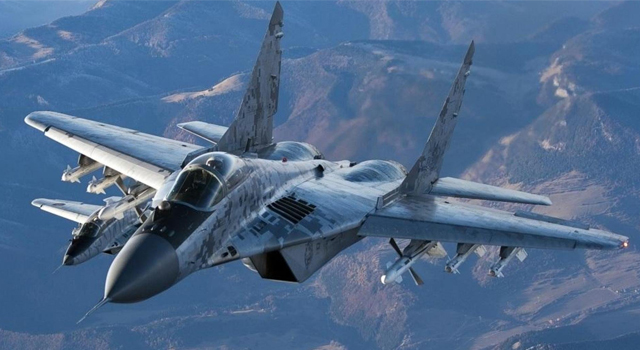Mig-29: (45, 7, 592, 298), (55, 196, 116, 267)
